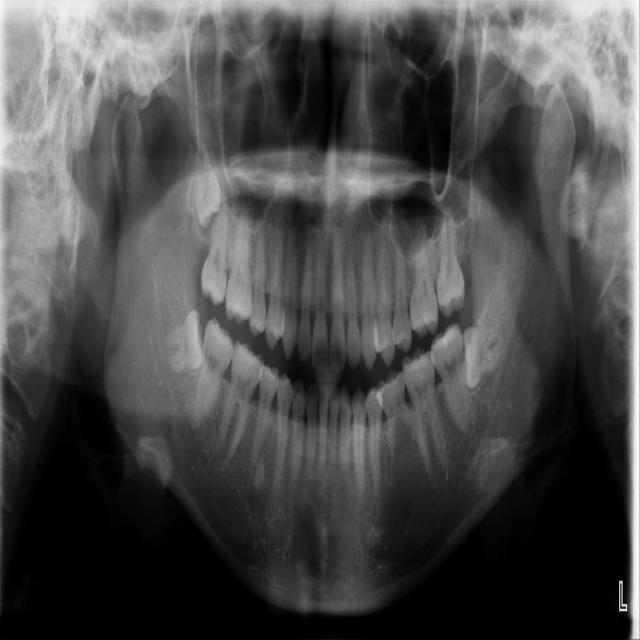3M ESPE Implant: (188, 137, 226, 230)
52: (417, 319, 477, 378), (400, 345, 438, 401)
73: (625, 618, 630, 623)
BioHorizons Implant: (436, 205, 465, 320)
Biomet 3i Implant: (460, 324, 504, 390)
Blue Sky Bio Implant: (427, 320, 474, 437)
Caries: (200, 184, 230, 306)
Implant: (192, 315, 238, 428)
Keystone Dental Implant: (160, 309, 209, 374)
